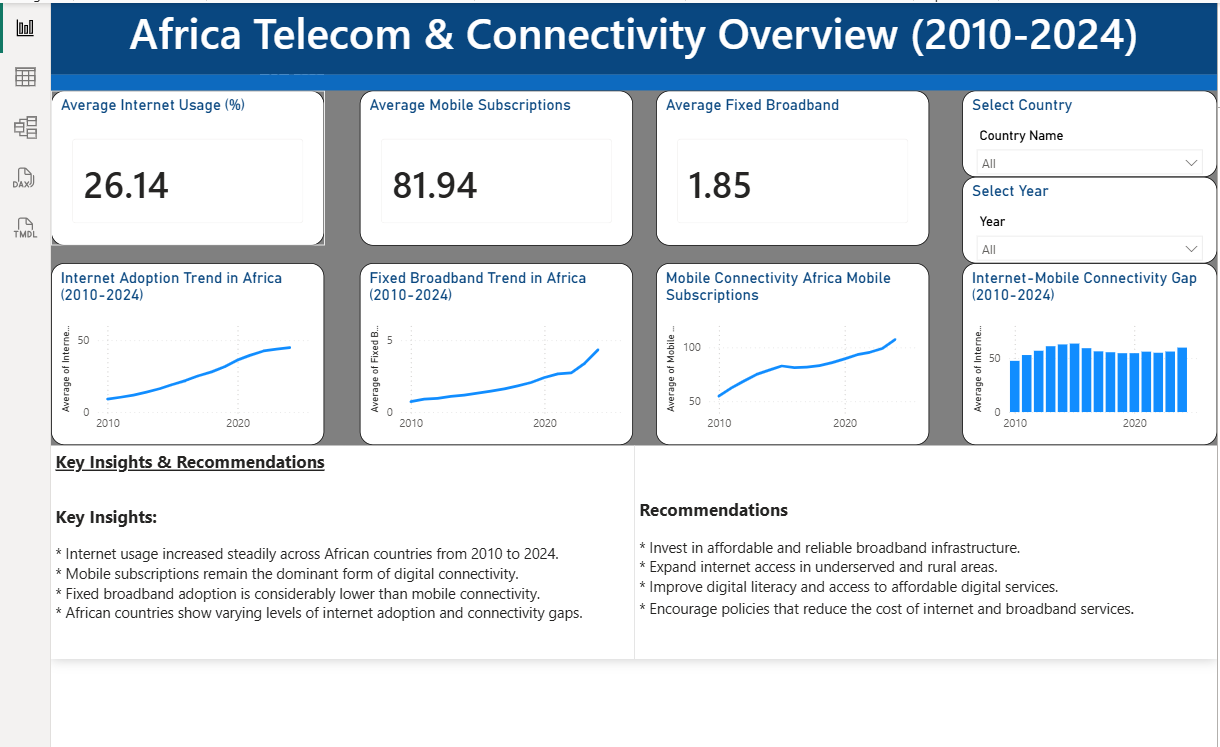

The dashboard page shown, as its layout file describes it:
{"tool":"powerbi","page":{"name":"Page 1","canvas":[1280,720],"ordinal":0},"visuals":[{"type":"cardVisual","title":"Average Internet Usage (%)","fields":{"Data":["Avg(digital_connectivity_africa.Internet Users (%))"]},"box":[0,96.1,300,170],"z":0},{"type":"cardVisual","title":"Average Mobile Subscriptions","fields":{"Data":["Avg(digital_connectivity_africa.Mobile Subscriptions)"]},"box":[338.9,96.1,300,170],"z":1000},{"type":"cardVisual","title":"Average Fixed Broadband","fields":{"Data":["Avg(digital_connectivity_africa.Fixed Broadband)"]},"box":[664.2,96.1,300,170],"z":2000},{"type":"lineChart","title":"Internet Adoption Trend in Africa (2010-2024)","fields":{"Category":["digital_connectivity_africa.Year"],"Y":["Avg(digital_connectivity_africa.Internet Users (%))"]},"box":[0,285.4,300,200],"z":3000},{"type":"lineChart","title":"Mobile Connectivity Africa Mobile Subscriptions","fields":{"Category":["digital_connectivity_africa.Year"],"Y":["Avg(digital_connectivity_africa.Mobile Subscriptions)"]},"box":[664.2,285.4,300,200],"z":4000},{"type":"lineChart","title":"Fixed Broadband Trend in Africa (2010-2024)","fields":{"Category":["digital_connectivity_africa.Year"],"Y":["Avg(digital_connectivity_africa.Fixed Broadband)"]},"box":[338.9,285.4,300,200],"z":5000},{"type":"slicer","title":"Select Country","fields":{"Values":["digital_connectivity_africa.Country Name"]},"box":[1000.3,96.1,280,95],"z":6000},{"type":"slicer","title":"Select Year","fields":{"Values":["digital_connectivity_africa.Year"]},"box":[1000.3,190.7,280,95],"z":7000},{"type":"clusteredColumnChart","title":"Internet-Mobile Connectivity Gap (2010-2024)","fields":{"Category":["digital_connectivity_africa.Year"],"Y":["Avg(digital_connectivity_africa.Internet-Mobile Gap)"]},"box":[1000.3,285.4,280,200],"z":8000},{"type":"shape","box":[0,0,1280.3,96.1],"z":9000},{"type":"textbox","box":[0,485.8,640.8,234.6],"z":9001},{"type":"textbox","box":[640.8,485.8,639.5,234.6],"z":9002}]}

Visuals, with their boxes in screenshot pixels (x1, y1, x2, y2):
"Average Internet Usage (%)" cardVisual: x1=51, y1=87, x2=323, y2=241
"Average Mobile Subscriptions" cardVisual: x1=358, y1=87, x2=630, y2=241
"Average Fixed Broadband" cardVisual: x1=653, y1=87, x2=925, y2=241
"Internet Adoption Trend in Africa (2010-2024)" lineChart: x1=51, y1=259, x2=323, y2=440
"Mobile Connectivity Africa Mobile Subscriptions" lineChart: x1=653, y1=259, x2=925, y2=440
"Fixed Broadband Trend in Africa (2010-2024)" lineChart: x1=358, y1=259, x2=630, y2=440
"Select Country" slicer: x1=958, y1=87, x2=1212, y2=173
"Select Year" slicer: x1=958, y1=173, x2=1212, y2=259
"Internet-Mobile Connectivity Gap (2010-2024)" clusteredColumnChart: x1=958, y1=259, x2=1212, y2=440
shape: x1=51, y1=0, x2=1212, y2=87
textbox: x1=51, y1=440, x2=632, y2=653
textbox: x1=632, y1=440, x2=1212, y2=653
